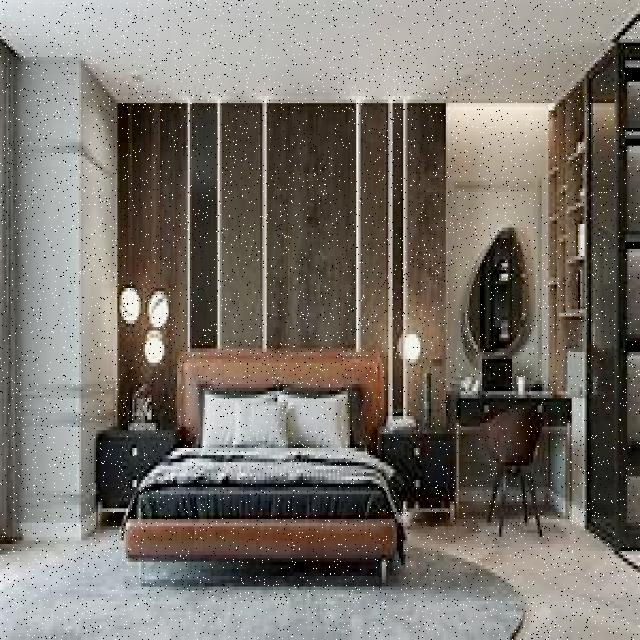bed: (128, 382, 401, 526)
